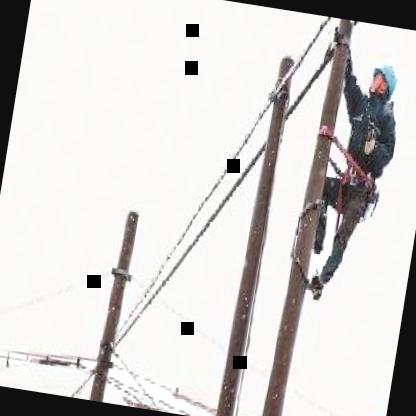helmet: (367, 61, 396, 105)
